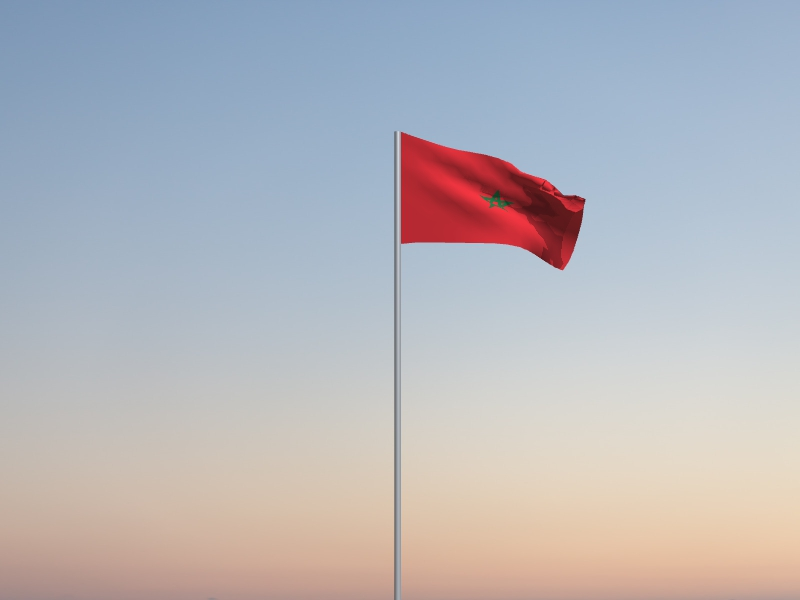ma: (402, 132, 587, 272)
